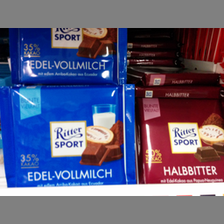chocolate: (5, 86, 139, 186), (141, 99, 224, 182), (9, 28, 129, 84)
